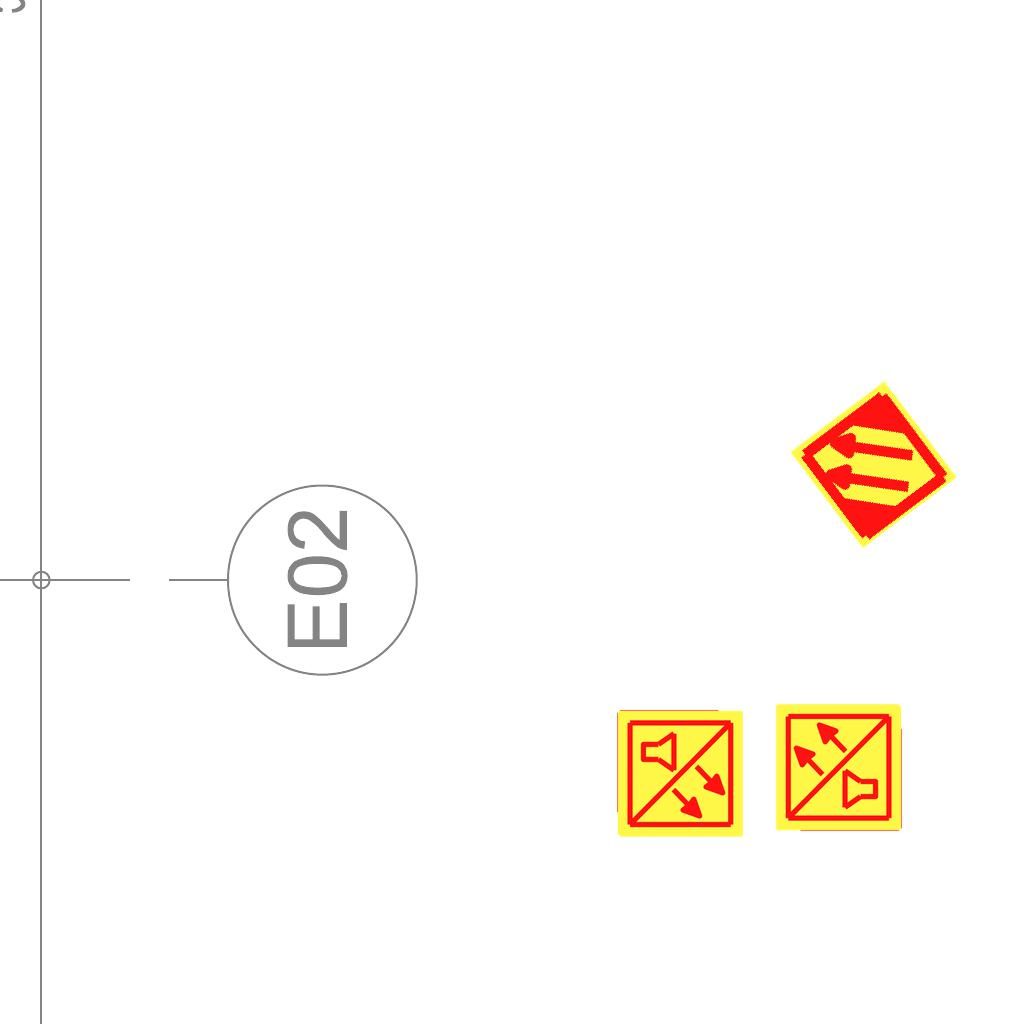ASR_Ansaugrauchmelder: (785, 376, 962, 553)
OKW_Multisensormelder_(Kombination_optischer_Rauch-Kahlenmonoxid_Waerme-Melder): (614, 708, 746, 840), (773, 701, 905, 833)
